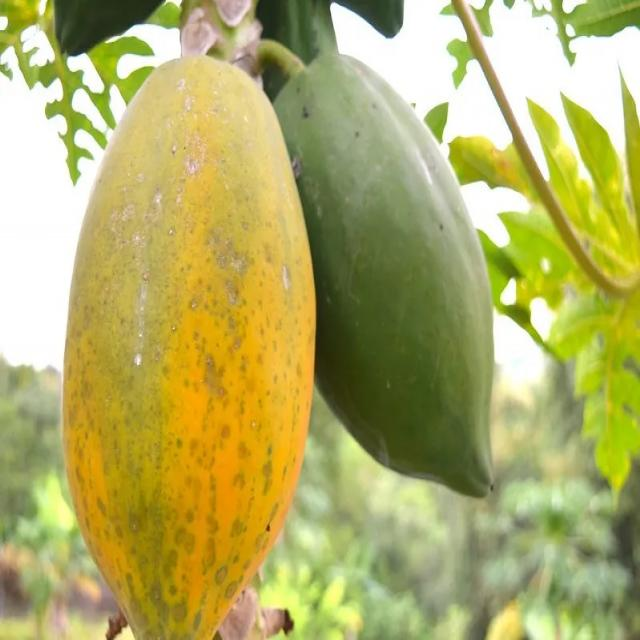Pepaya rippen: (65, 60, 323, 640)
Pepaya unrippen: (274, 49, 516, 532)
